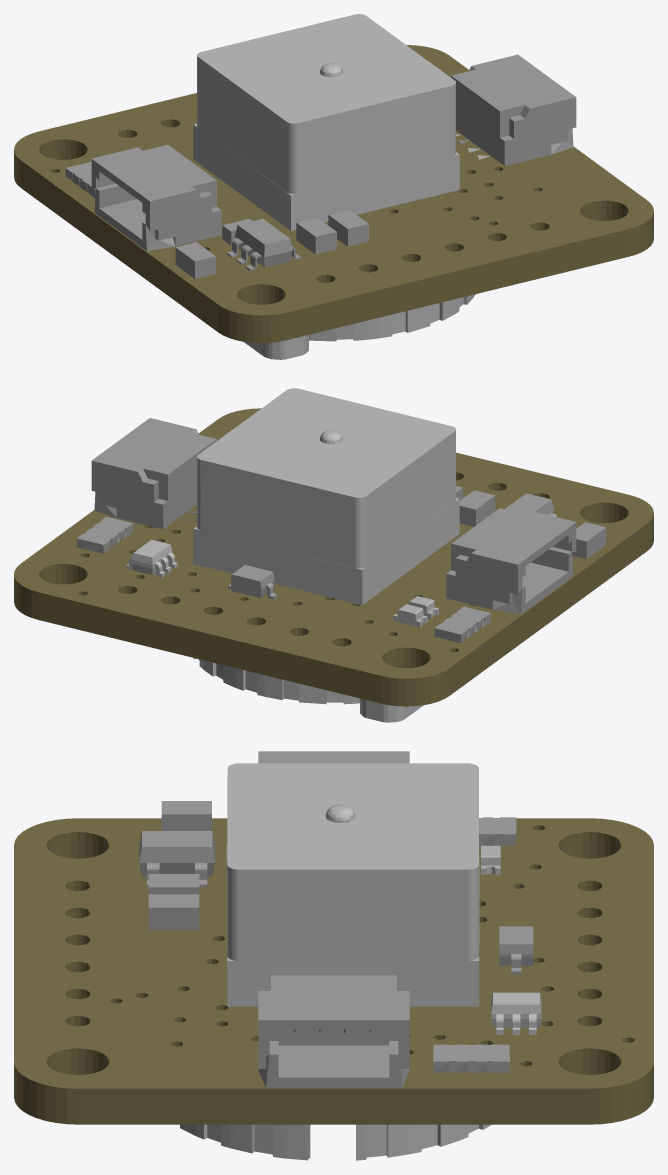
The model's file is adafruit-4415-pa1010d.glb.
3 views of the same model, one above another, from view 1: azimuth 30°, elevation 25°; view 2: azimuth 150°, elevation 25°; view 3: azimuth 270°, elevation 25° (orthographic). The views are drawn at different scales.
Visible parts, largest first — view 1: colour 1, colour 4, colour 2; view 2: colour 1, colour 4, colour 2, colour 3; view 3: colour 1, colour 4, colour 2, colour 3.
Boxes of the visible parts, x1=… form: colour 1: x1=14, y1=45, x2=653, y2=343; colour 4: x1=193, y1=14, x2=475, y2=359; colour 2: x1=65, y1=54, x2=576, y2=278; colour 1: x1=14, y1=408, x2=653, y2=706; colour 4: x1=193, y1=388, x2=459, y2=722; colour 2: x1=76, y1=418, x2=606, y2=643; colour 3: x1=126, y1=539, x2=177, y2=577; colour 1: x1=14, y1=818, x2=653, y2=1124; colour 4: x1=180, y1=763, x2=500, y2=1160; colour 2: x1=139, y1=751, x2=533, y2=1087; colour 3: x1=491, y1=992, x2=541, y2=1034.
Size of the model in its own units: 0.0254 by 0.012 by 0.0254.
